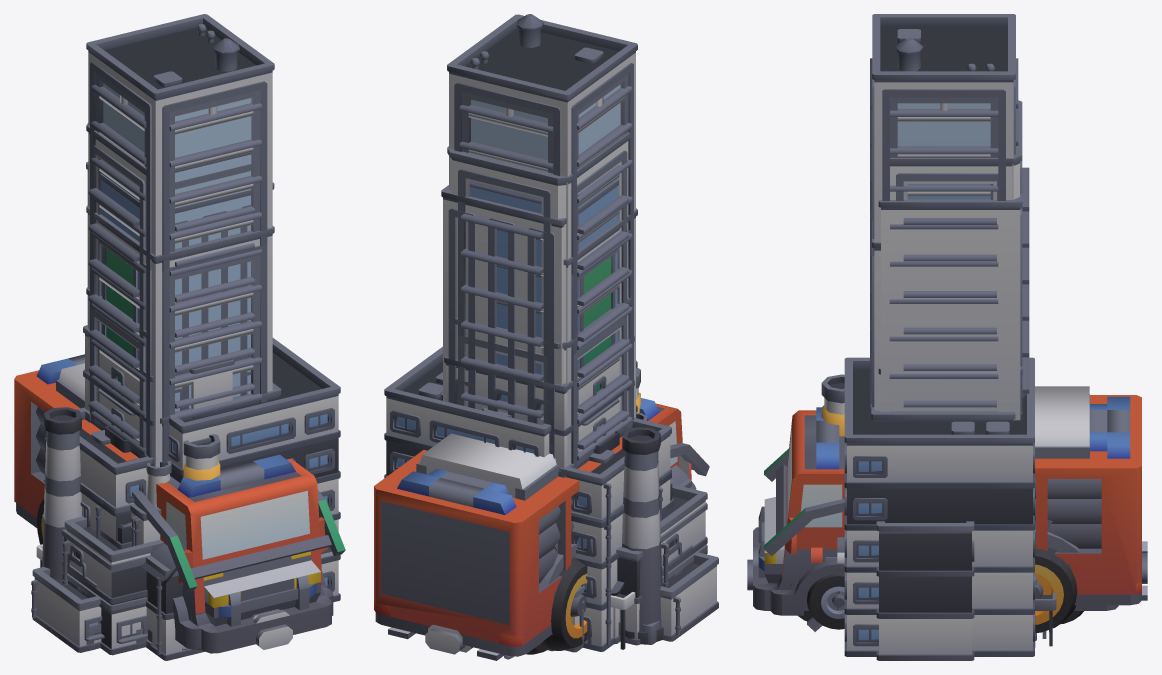
The model's file is city.glb.
The picture shows the model from 3 angles, left to right: view 1: azimuth 30°, elevation 25°; view 2: azimuth 150°, elevation 25°; view 3: azimuth 270°, elevation 25°; orthographic projection. The views are drawn at different scales.
Parts seen in each view (by area): view 1: com-building-skyscraper-d, car-firetruck, com-building-n, com-building-skyscraper-c, com-building-skyscraper-b, car-garbage-truck, ind-building-f, ind-building-l, com-building-skyscraper-e, com-building-j, com-building-skyscraper-a, ind-building-o (+8 smaller); view 2: car-firetruck, com-building-skyscraper-d, com-building-skyscraper-b, com-building-skyscraper-e, com-building-n, ind-building-f, com-building-j, com-building-m, car-ambulance, com-building-skyscraper-c, com-building-skyscraper-a, ind-building-l (+4 smaller); view 3: com-building-n, car-firetruck, com-building-skyscraper-d, com-building-skyscraper-e, ind-building-r, com-building-skyscraper-b, car-garbage-truck, car-ambulance, com-building-skyscraper-c, car-tractor-shovel, com-building-l, ind-building-l (+1 smaller).
Boxes of the visible parts, x1,y1,x2,y2 form: com-building-skyscraper-d: (86,14,274,457); car-firetruck: (14,354,333,649); com-building-n: (36,338,340,602); com-building-skyscraper-c: (86,205,274,467); com-building-skyscraper-b: (86,123,254,447); car-garbage-truck: (132,458,345,653); ind-building-f: (42,407,163,650); ind-building-l: (31,434,220,652); com-building-skyscraper-e: (86,162,274,415); com-building-j: (44,407,152,541); com-building-skyscraper-a: (86,286,254,458); ind-building-o: (145,555,204,660); car-firetruck: (374,398,691,656); com-building-skyscraper-d: (447,14,637,463); com-building-skyscraper-b: (447,132,630,465); com-building-skyscraper-e: (441,179,619,458); com-building-n: (384,346,637,649); ind-building-f: (622,427,707,644); com-building-j: (560,418,671,651); com-building-m: (444,335,634,477); car-ambulance: (419,433,556,654); com-building-skyscraper-c: (496,208,637,465); com-building-skyscraper-a: (455,297,631,468); ind-building-l: (636,367,718,641); com-building-n: (844,357,1049,656); car-firetruck: (753,394,1147,629); com-building-skyscraper-d: (870,14,1018,411); com-building-skyscraper-e: (878,193,1022,420); ind-building-r: (876,521,974,660); com-building-skyscraper-b: (871,100,1029,407); car-garbage-truck: (747,448,1147,621); car-ambulance: (789,386,1107,624); com-building-skyscraper-c: (870,221,998,412); car-tractor-shovel: (807,529,1079,633); com-building-l: (871,393,1026,422); ind-building-l: (821,374,844,436).
Bounding box in the file's own units: 2.71 × 5.83 × 3.45.
